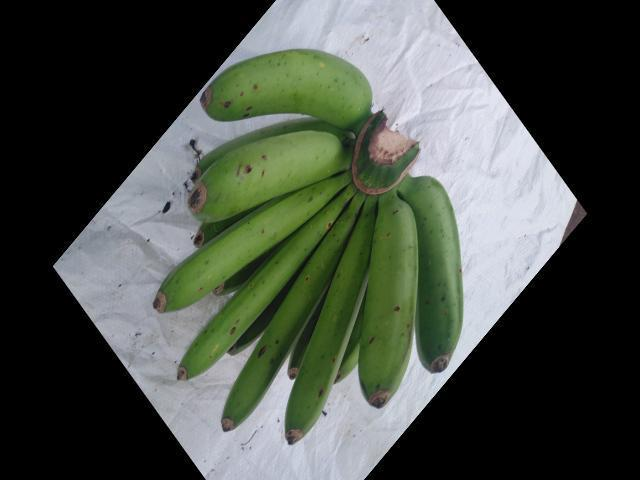unripe: (178, 124, 350, 225), (404, 158, 479, 374), (189, 34, 369, 122), (357, 180, 412, 418)
